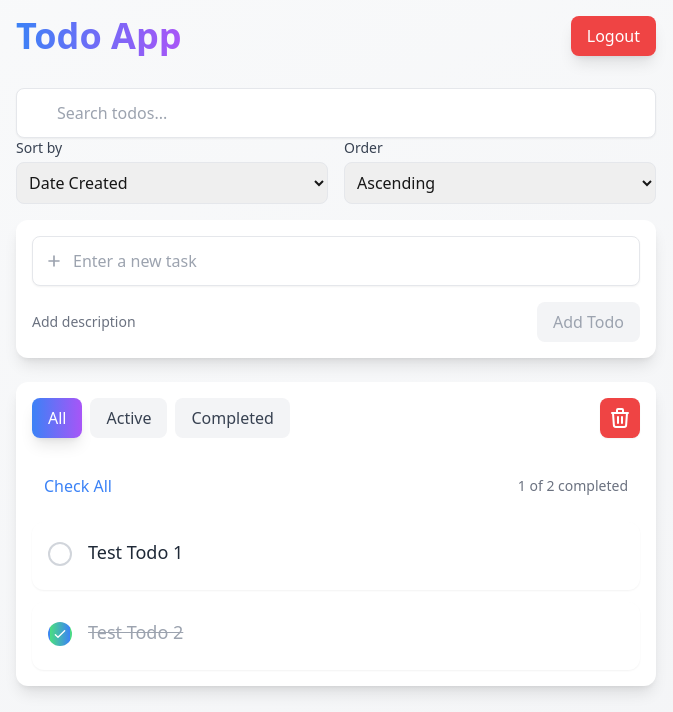
it: TodosPage › shows appropriate message when no todos match filter
Click the button "Active". click: [129, 418]
box: [90, 398, 168, 438]
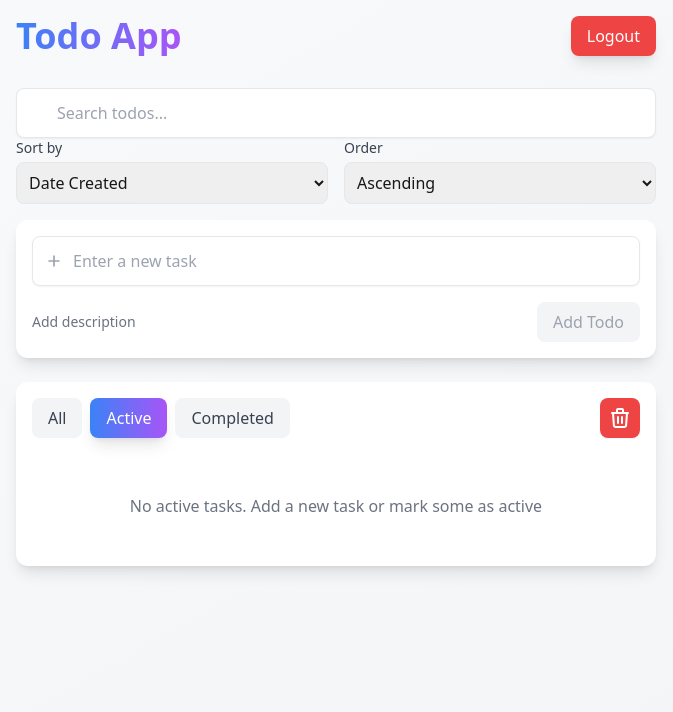
expect the text "No active tasks. Add a new task or mark some as active" is shown: met, box [130, 495, 542, 517]
